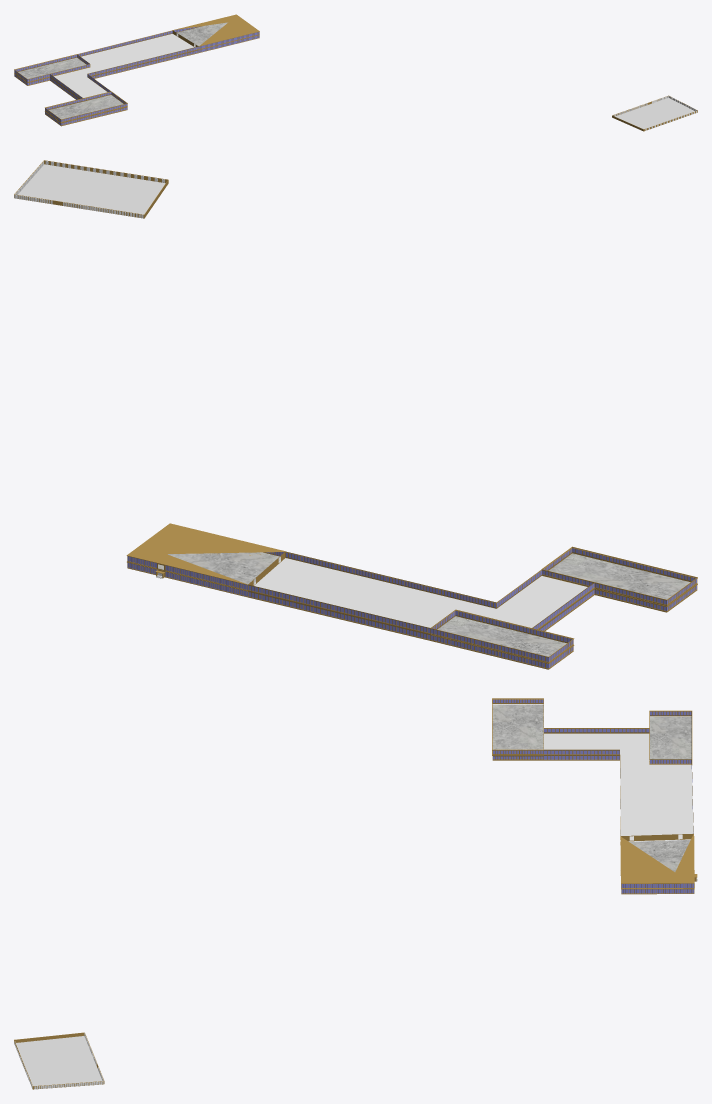
Rendered from dahu2.fbx.
3 views of the same model, one above another, from view 1: azimuth 30°, elevation 25°; view 2: azimuth 150°, elevation 25°; view 3: azimuth 270°, elevation 25° (orthographic). The views are drawn at different scales.
Parts seen in each view (by area): view 1: b楼.001, 1层.001, e楼.001, Floor, c楼.001, b楼, e楼, Room, 1层; view 2: b楼.001, 1层.001, e楼.001, Floor, c楼.001, b楼, c楼, Room, 1层, e楼; view 3: b楼.001, 1层.001, Floor, e楼.001, c楼.001.
Part boxes in pixels (<box>): b楼.001: <box>50,30,198,98</box>; 1层.001: <box>172,14,259,49</box>; e楼.001: <box>45,91,127,122</box>; Floor: <box>615,97,694,129</box>; c楼.001: <box>14,54,90,82</box>; b楼: <box>50,50,198,99</box>; e楼: <box>45,106,127,126</box>; Room: <box>612,95,697,131</box>; 1层: <box>198,34,259,52</box>; b楼.001: <box>248,551,594,634</box>; 1层.001: <box>126,523,285,590</box>; e楼.001: <box>541,546,697,605</box>; Floor: <box>18,164,165,214</box>; c楼.001: <box>430,609,574,663</box>; b楼: <box>248,589,594,640</box>; c楼: <box>430,634,574,669</box>; Room: <box>14,160,168,218</box>; 1层: <box>127,554,260,597</box>; e楼: <box>543,576,697,612</box>; b楼.001: <box>543,728,693,840</box>; 1层.001: <box>620,833,694,888</box>; Floor: <box>15,1036,102,1085</box>; e楼.001: <box>492,698,543,755</box>; c楼.001: <box>649,710,692,764</box>.
Size of what is drawn, in the model's own units: 60064 by 800 by 45650.
